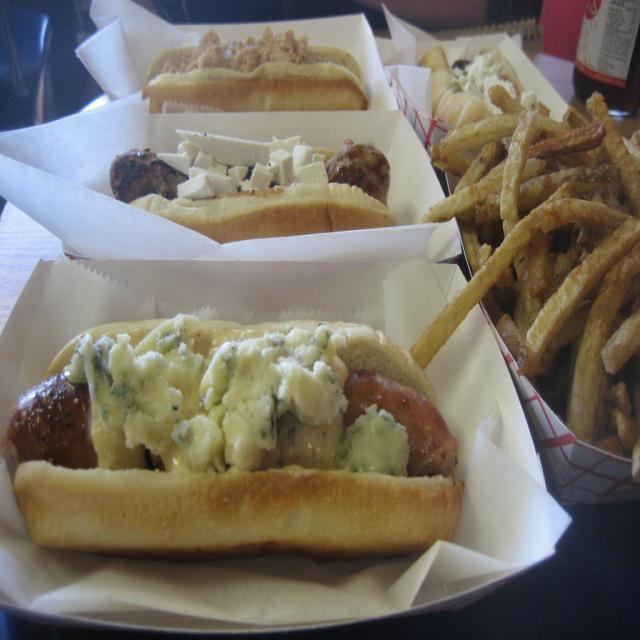Hot dog: (3, 306, 489, 574), (110, 128, 402, 247), (145, 27, 367, 112), (418, 44, 523, 126)
